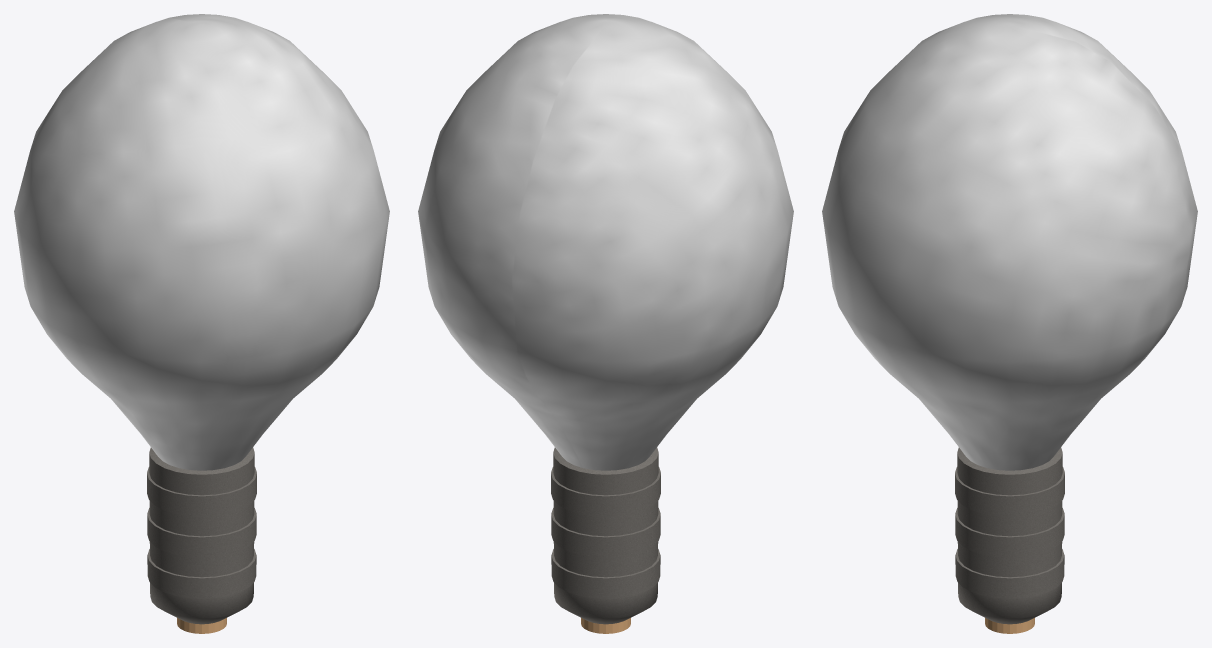
The model's file is Bombilla.fbx.
The picture shows the model from 3 angles, left to right: view 1: azimuth 30°, elevation 25°; view 2: azimuth 150°, elevation 25°; view 3: azimuth 270°, elevation 25°; orthographic projection.
Parts seen in each view (by area): view 1: Sphere001; view 2: Sphere001; view 3: Sphere001.
Boxes of the visible parts, x1,y1,x2,y2 form: Sphere001: (14,14,389,633); Sphere001: (418,14,793,633); Sphere001: (822,14,1197,633).
Size of the model in its own units: 53.58 by 95 by 53.58.
Materials: 1 (1 with a texture image).
